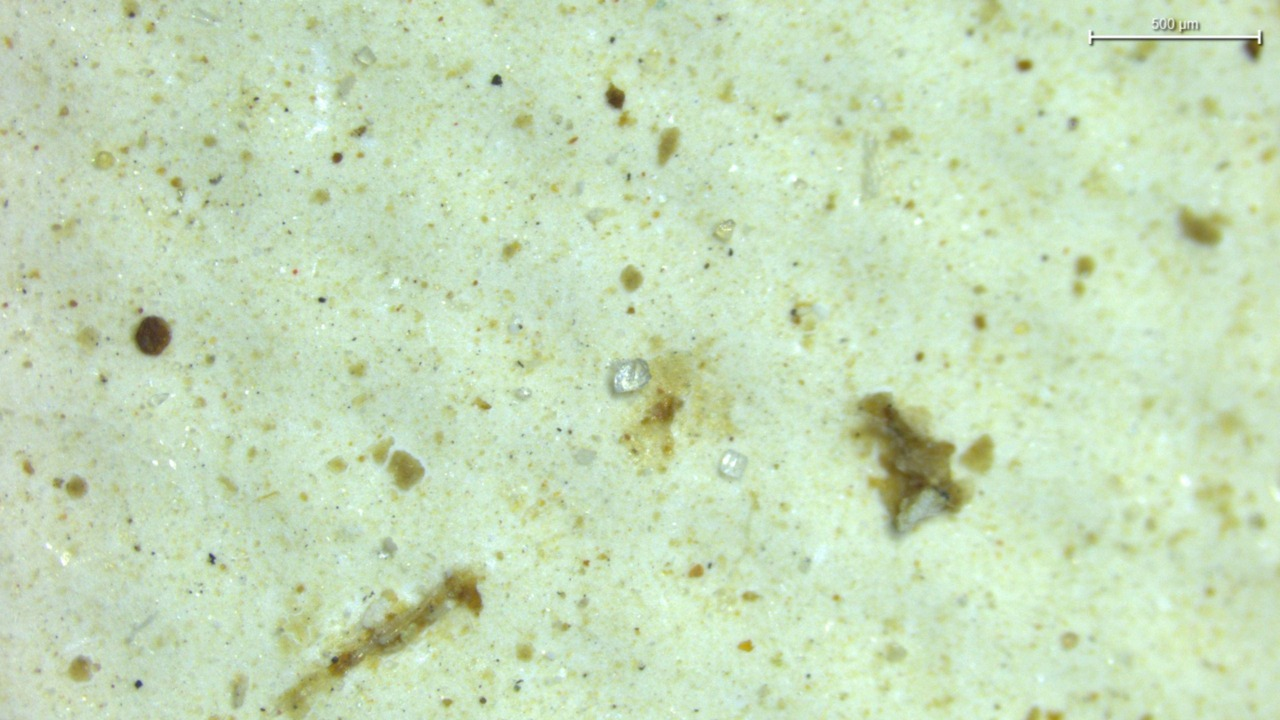microplastic_fragment: (613, 359, 651, 393), (717, 450, 748, 481)
